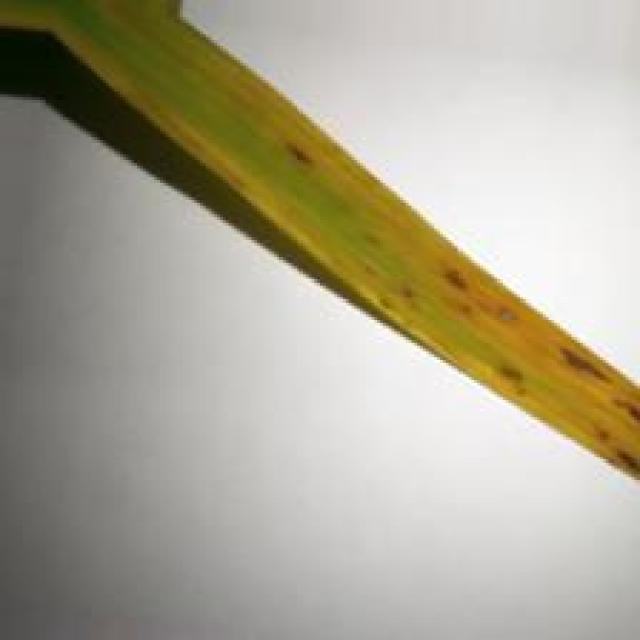Narrow_Brown_Leaf_Spot: (0, 2, 640, 482)
